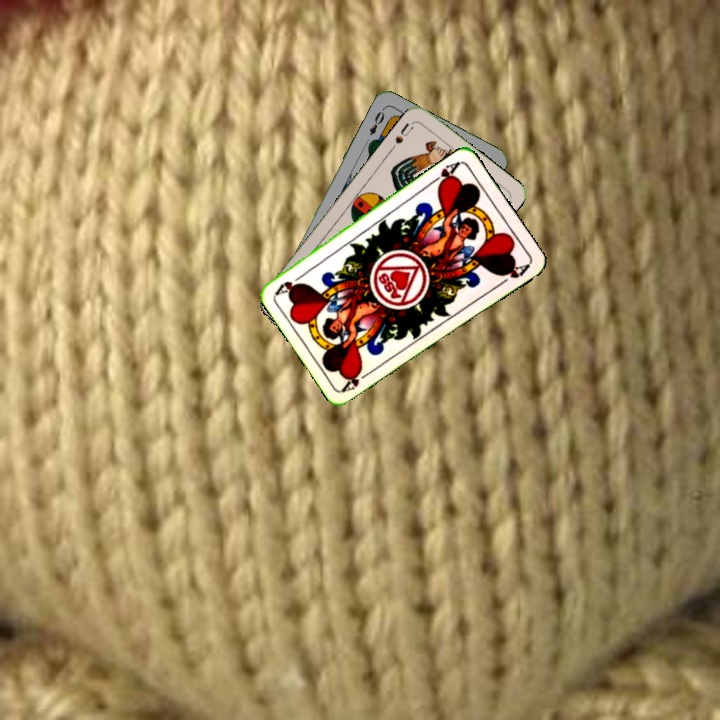EO: (365, 104, 387, 138)
HA: (427, 157, 462, 190), (338, 365, 375, 394)
SU: (387, 119, 416, 153)
